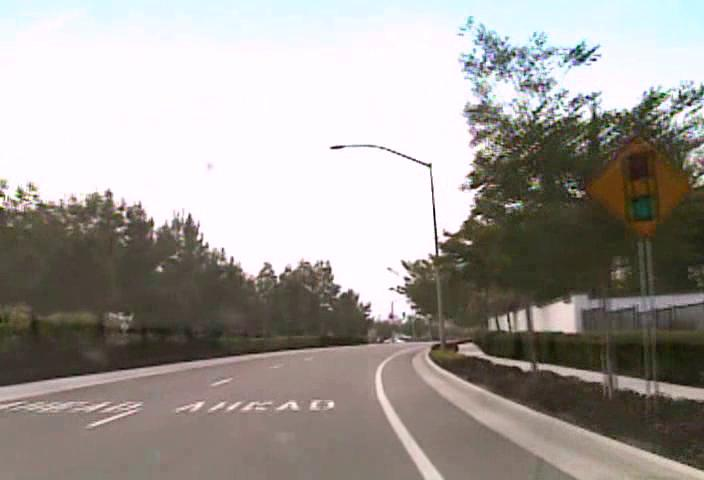signalAhead: (584, 133, 690, 236)
